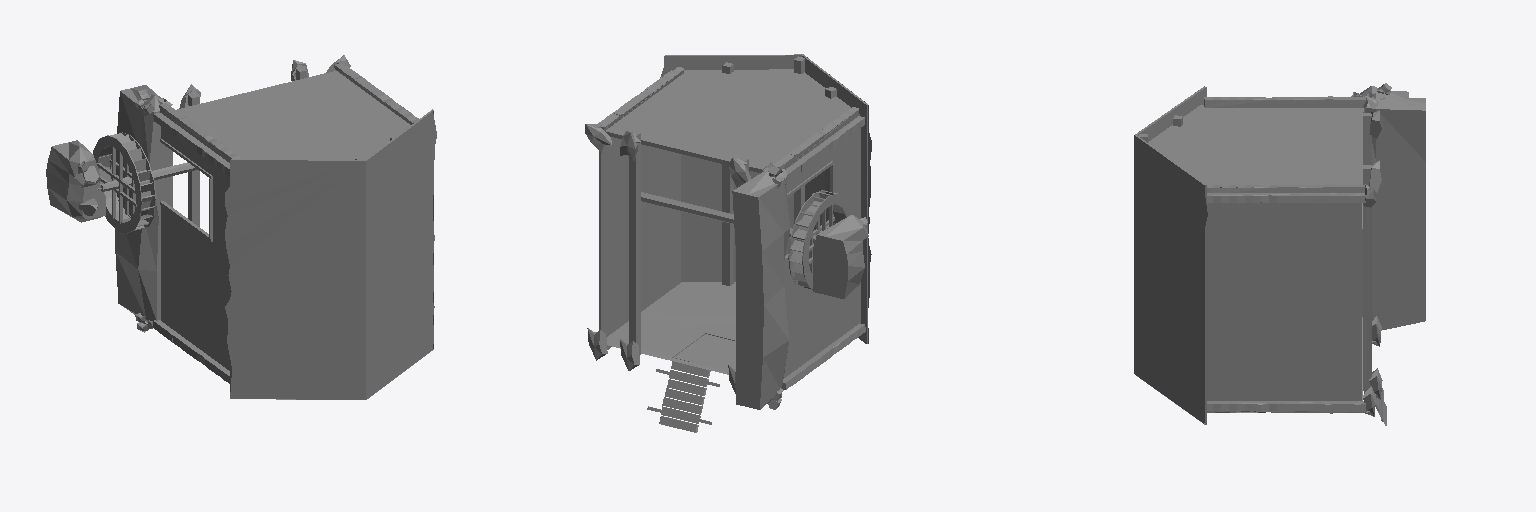
File: watermill_test_01.obj
3 views of the same model, side by side, from view 1: azimuth 30°, elevation 25°; view 2: azimuth 150°, elevation 25°; view 3: azimuth 270°, elevation 25° (orthographic).
Visible parts, largest first — view 1: katto, seinat, kiviroykkiot, ratas, paadyt, irtonaiset_kivet, ala_paalut, ratas_aukon_karmit, ratas_hirsi; view 2: seinat, kiviroykkiot, VALIKATTO, paadyt, ratas, portaat, ala_paalut, kivet_aitan_alla, ala_paalut01, ovi, ratas_hirsi; view 3: seinat, katto, kiviroykkiot, paadyt, ala_paalut, VALIKATTO, kivet_aitan_alla.
Part boxes in pixels (bbox=[...]): katto: bbox=[225, 111, 436, 399]; seinat: bbox=[161, 71, 410, 370]; kiviroykkiot: bbox=[46, 85, 172, 322]; ratas: bbox=[93, 132, 155, 233]; paadyt: bbox=[153, 63, 418, 383]; irtonaiset_kivet: bbox=[78, 89, 172, 332]; ala_paalut: bbox=[188, 67, 306, 226]; ratas_aukon_karmit: bbox=[160, 139, 212, 241]; ratas_hirsi: bbox=[97, 162, 197, 191]; seinat: bbox=[599, 69, 860, 377]; kiviroykkiot: bbox=[732, 169, 868, 409]; VALIKATTO: bbox=[664, 54, 867, 343]; paadyt: bbox=[598, 67, 865, 389]; ratas: bbox=[788, 190, 851, 289]; portaat: bbox=[647, 361, 719, 432]; ala_paalut: bbox=[629, 131, 748, 355]; kivet_aitan_alla: bbox=[585, 124, 750, 393]; ala_paalut01: bbox=[722, 56, 836, 285]; ovi: bbox=[674, 334, 735, 366]; ratas_hirsi: bbox=[641, 192, 816, 243]; seinat: bbox=[1148, 105, 1362, 400]; katto: bbox=[1134, 86, 1207, 423]; kiviroykkiot: bbox=[1360, 86, 1425, 329]; paadyt: bbox=[1204, 96, 1365, 413]; ala_paalut: bbox=[1363, 113, 1371, 390]; VALIKATTO: bbox=[1135, 87, 1206, 424]; kivet_aitan_alla: bbox=[1363, 110, 1382, 416].
Bounding box in the file's own units: 6746 × 6353 × 5866.